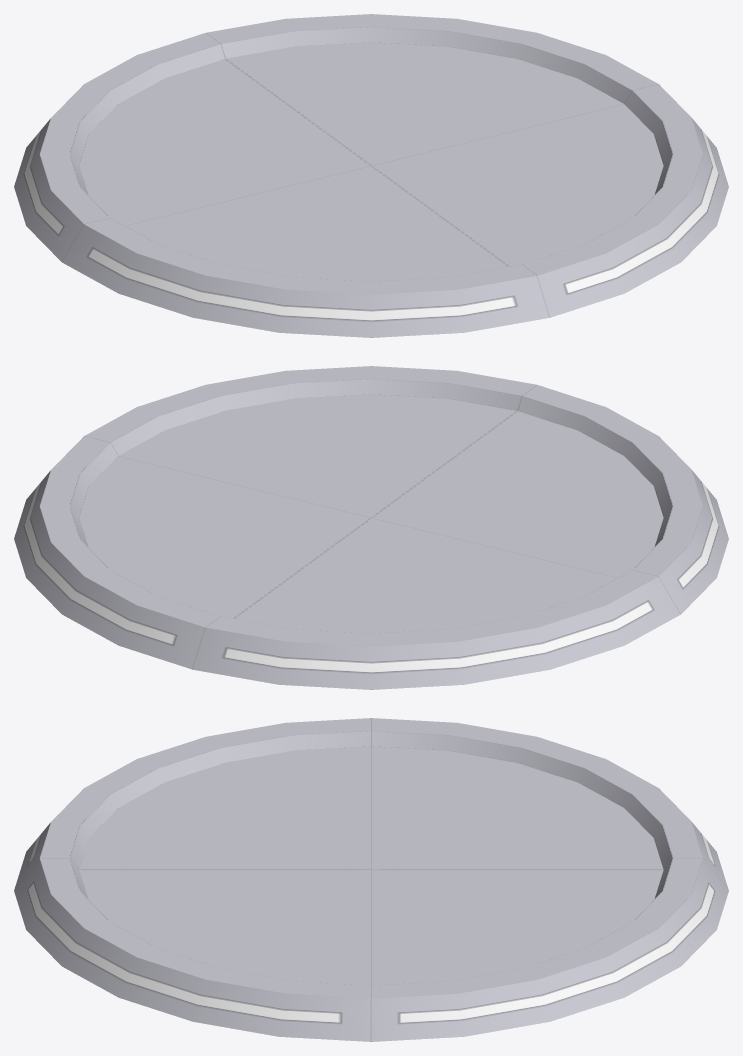
Rendered from Podium_02.FBX.
3 views of the same model, one above another, from view 1: azimuth 30°, elevation 25°; view 2: azimuth 150°, elevation 25°; view 3: azimuth 270°, elevation 25° (orthographic).
Parts seen in each view (by area): view 1: Podium_02; view 2: Podium_02; view 3: Podium_02.
Part boxes in pixels (left/top/right/bottom): Podium_02: left=14, top=14, right=728, bottom=337; Podium_02: left=14, top=366, right=728, bottom=689; Podium_02: left=14, top=718, right=728, bottom=1041.
Bounding box in the file's own units: 4.99 × 0.2508 × 4.99.
1 material, 1 textured.
